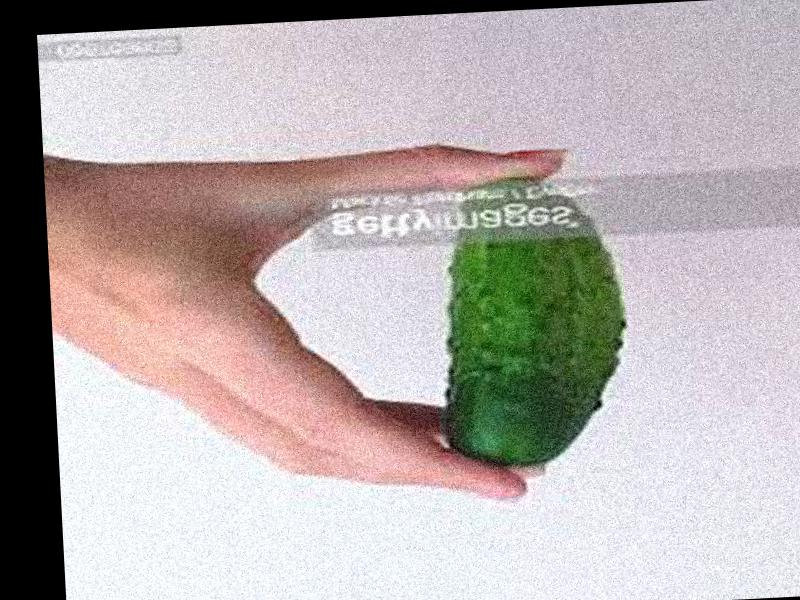Cucumber: (435, 172, 633, 470)
